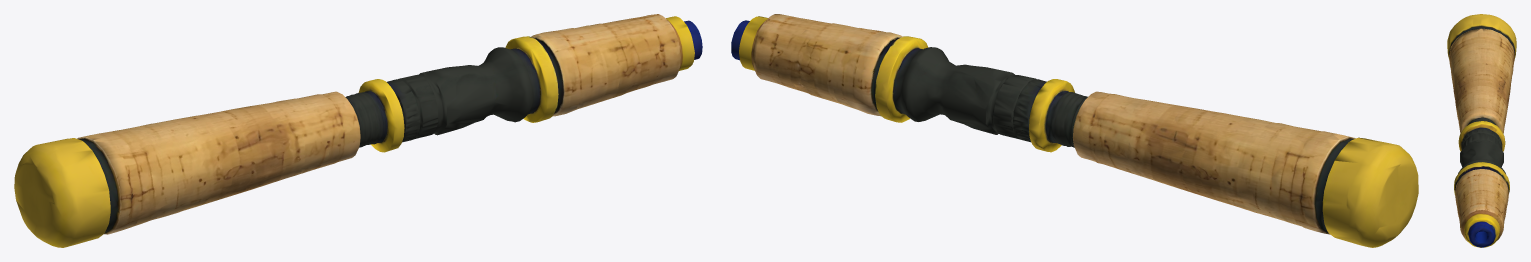
Rendered from gear-rod1.glb.
3 views of the same model, side by side, from view 1: azimuth 30°, elevation 25°; view 2: azimuth 150°, elevation 25°; view 3: azimuth 270°, elevation 25° (orthographic). The views are drawn at different scales.
Parts seen in each view (by area): view 1: tripo_node_7e92b534-cbb0-4623-b733-b4b5438b8191; view 2: tripo_node_7e92b534-cbb0-4623-b733-b4b5438b8191; view 3: tripo_node_7e92b534-cbb0-4623-b733-b4b5438b8191.
Part boxes in pixels (left/top/right/bottom): tripo_node_7e92b534-cbb0-4623-b733-b4b5438b8191: left=14, top=14, right=702, bottom=247; tripo_node_7e92b534-cbb0-4623-b733-b4b5438b8191: left=731, top=14, right=1418, bottom=247; tripo_node_7e92b534-cbb0-4623-b733-b4b5438b8191: left=1447, top=14, right=1516, bottom=247.
Bounding box in the file's own units: 0.9999 × 0.1387 × 0.1482.
1 material, 1 textured.
